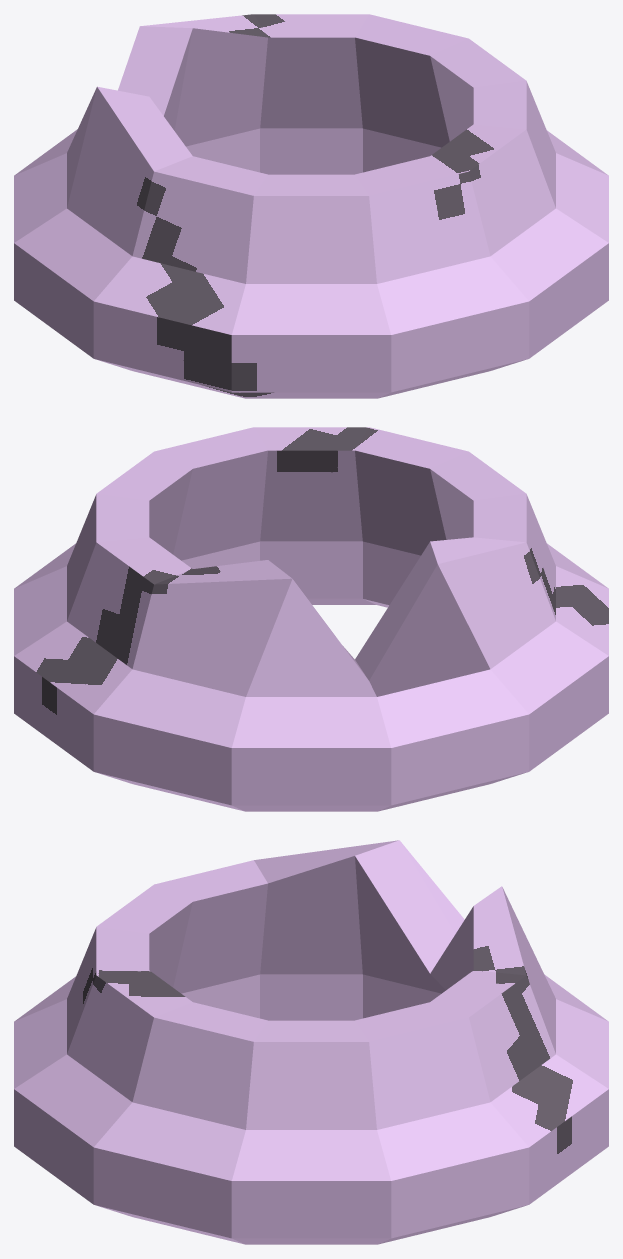
File: lily bubba.gltf
3 renders of one model, top to bottom at view 1: azimuth 30°, elevation 25°; view 2: azimuth 150°, elevation 25°; view 3: azimuth 270°, elevation 25°, orthographic.
Visible parts, largest first — view 1: torus; view 2: torus; view 3: torus.
Part boxes in pixels (box(x1,y1,x2,y2)): torus: box(14, 14, 608, 398); torus: box(14, 427, 608, 811); torus: box(14, 840, 608, 1244).
Bounding box in the file's own units: 0.3041 × 0.123 × 0.3041.
Materials: 1 (1 with a texture image).
